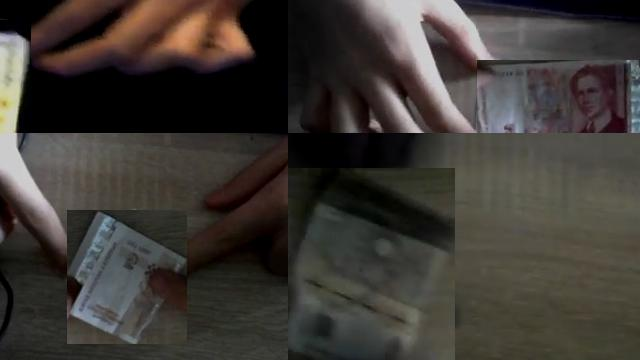10leva: (288, 168, 455, 360)
5leva: (67, 210, 187, 344), (477, 60, 640, 133)
